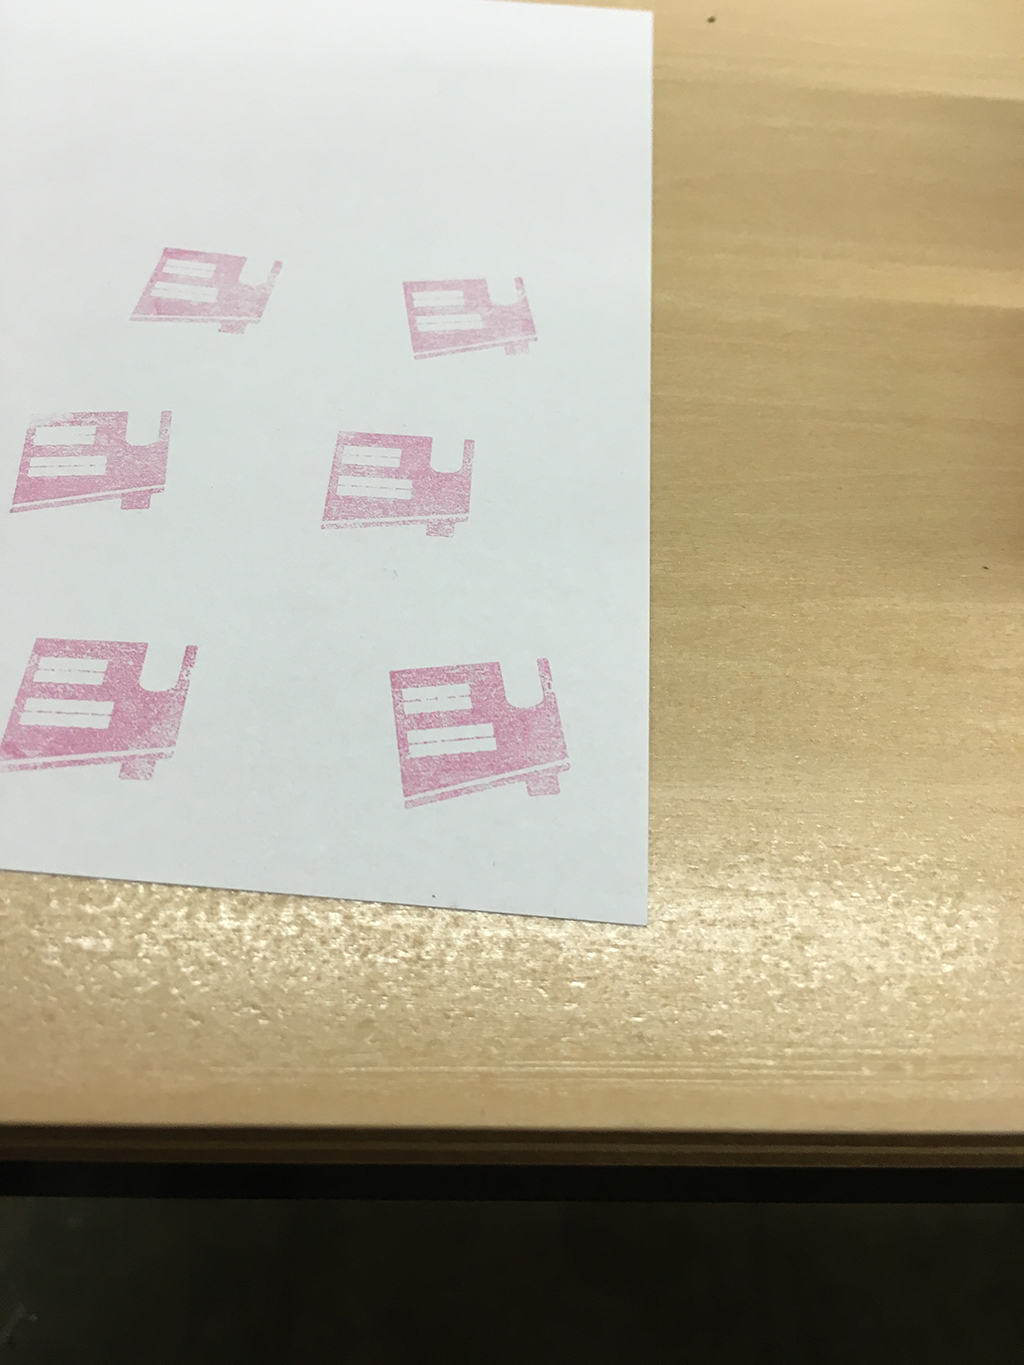house: (367, 642, 597, 827), (1, 623, 213, 813), (1, 396, 177, 538), (302, 416, 487, 548), (110, 228, 290, 344), (390, 264, 554, 374)
